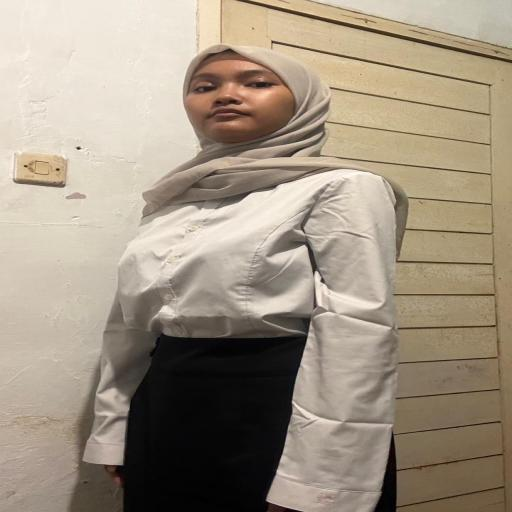kemeja_benar: (104, 170, 410, 341)
kerudung_salah: (114, 42, 384, 193)
rok_benar: (134, 333, 392, 512)
